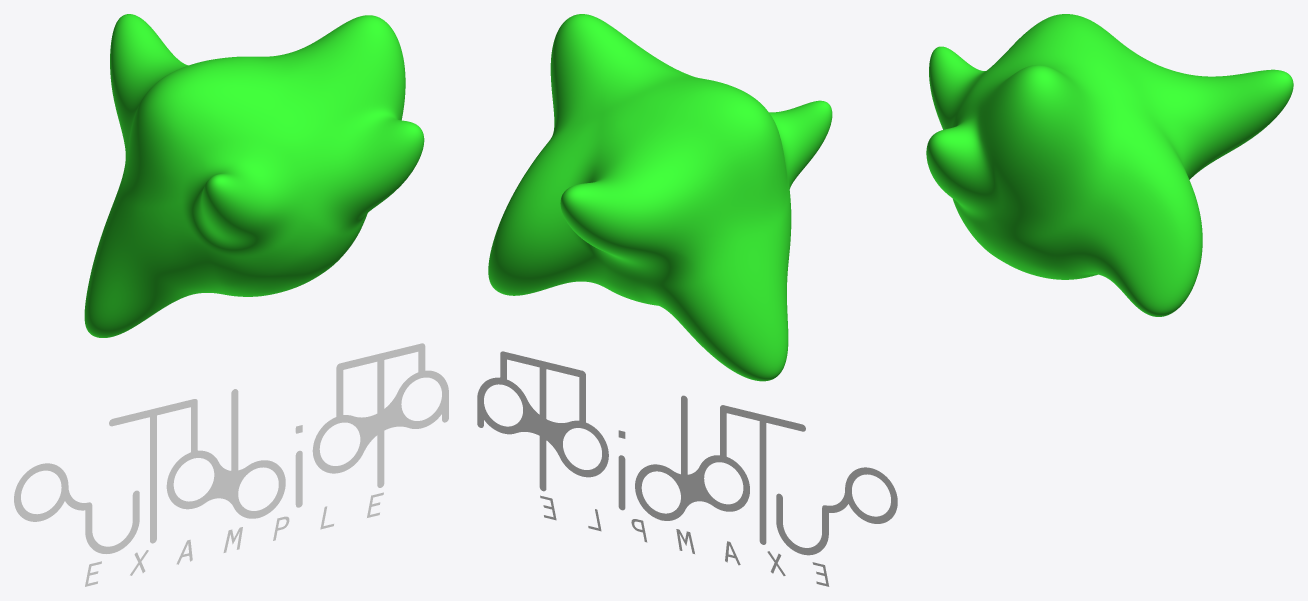
The model's file is example-1.glb.
3 renders of one model, left to right at view 1: azimuth 30°, elevation 25°; view 2: azimuth 150°, elevation 25°; view 3: azimuth 270°, elevation 25°, orthographic. The views are drawn at different scales.
Parts seen in each view (by area): view 1: #3, Curve.004; view 2: #3, Curve.004; view 3: #3.
Part boxes in pixels (x1,y1,x2,y2): #3: [84, 14, 424, 337]; Curve.004: [14, 343, 448, 586]; #3: [488, 14, 832, 381]; Curve.004: [477, 351, 897, 586]; #3: [926, 14, 1293, 316].
Size of what is drawn, in the model's own units: 0.3878 by 0.4387 by 0.2881.
